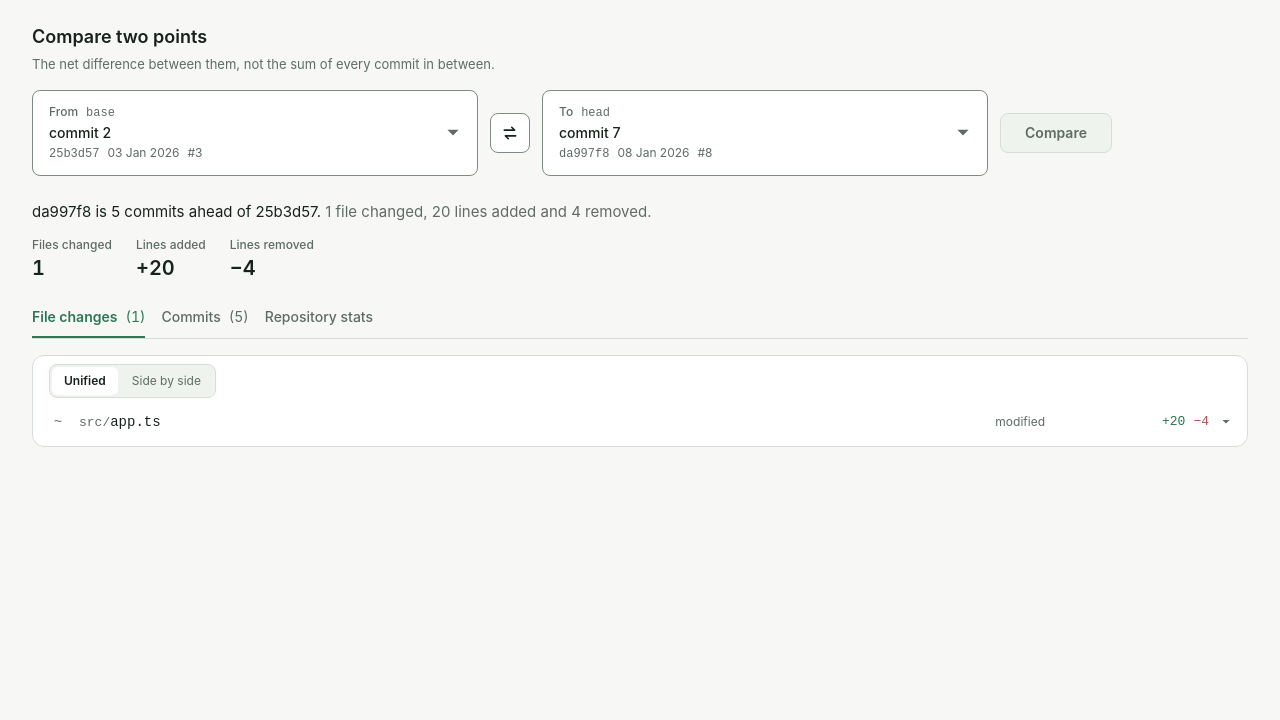
Test: CompareView statistics › labels each side by direction and by sha
Step 1. Click the tab "Repository stats" → (319, 318), box [265, 298, 373, 338]
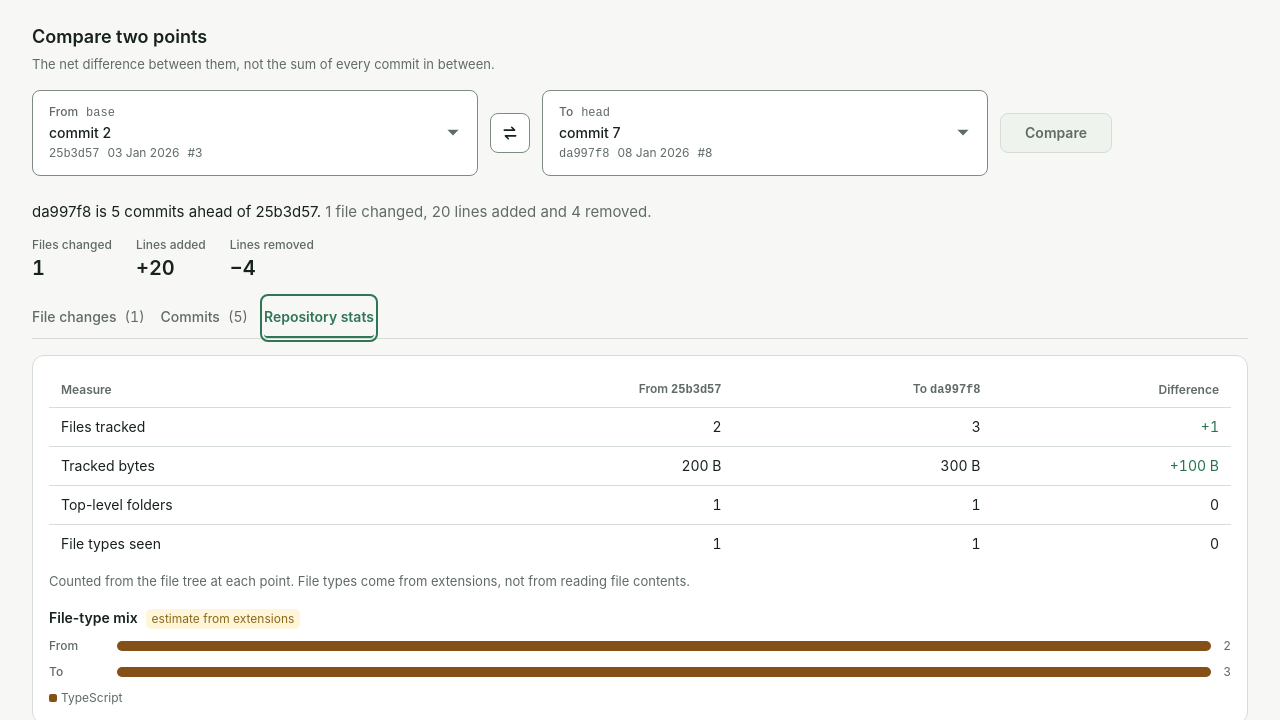
Now the column heading "Files tracked" is shown, box [49, 408, 432, 446]
Now the text "+1" is shown, box [992, 408, 1231, 446]
